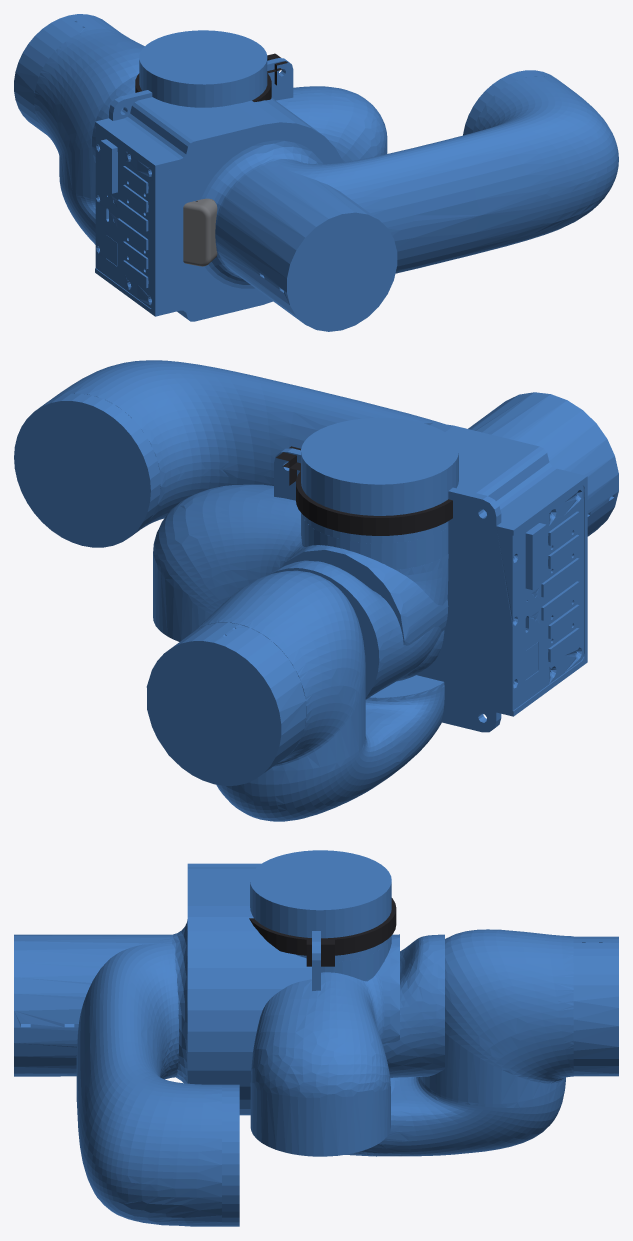
File: arm.glb
The picture shows the model from 3 angles, top to bottom: view 1: azimuth 30°, elevation 25°; view 2: azimuth 150°, elevation 25°; view 3: azimuth 270°, elevation 25°; orthographic projection. The views are drawn at different scales.
Parts seen in each view (by area): view 1: b1, b3, b5, b2, b4, b13, b6; view 2: b5, b1, b3, b2, b4, b6; view 3: b5, b3, b1, b4, b2, b6.
Boxes of the visible parts, left/top/right/bottom form: b1: left=95, top=58, right=397, bottom=331; b3: left=265, top=70, right=618, bottom=273; b5: left=14, top=14, right=144, bottom=244; b2: left=92, top=30, right=267, bottom=162; b4: left=276, top=86, right=387, bottom=162; b13: left=183, top=198, right=217, bottom=266; b6: left=135, top=53, right=287, bottom=101; b5: left=146, top=570, right=444, bottom=821; b1: left=274, top=392, right=618, bottom=732; b3: left=14, top=360, right=444, bottom=547; b2: left=268, top=417, right=458, bottom=699; b4: left=153, top=484, right=448, bottom=645; b6: left=276, top=446, right=452, bottom=681; b5: left=345, top=929, right=618, bottom=1156; b3: left=76, top=938, right=239, bottom=1226; b1: left=14, top=863, right=320, bottom=1115; b4: left=250, top=934, right=399, bottom=1156; b2: left=250, top=850, right=444, bottom=1077; b6: left=249, top=898, right=396, bottom=966.
Size of the model in its own units: 0.3218 by 0.1638 by 0.3411.
